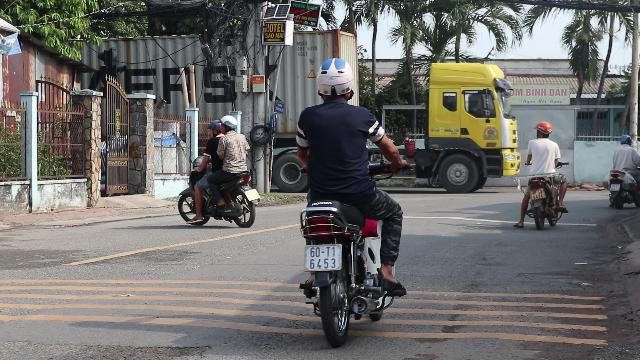helmet: (313, 56, 355, 102), (218, 115, 238, 133), (533, 120, 551, 138), (208, 119, 222, 135)
licenseplate: (305, 245, 341, 271), (528, 188, 546, 200)
motorcyclist: (290, 55, 410, 345), (176, 114, 260, 228), (514, 120, 570, 228)
